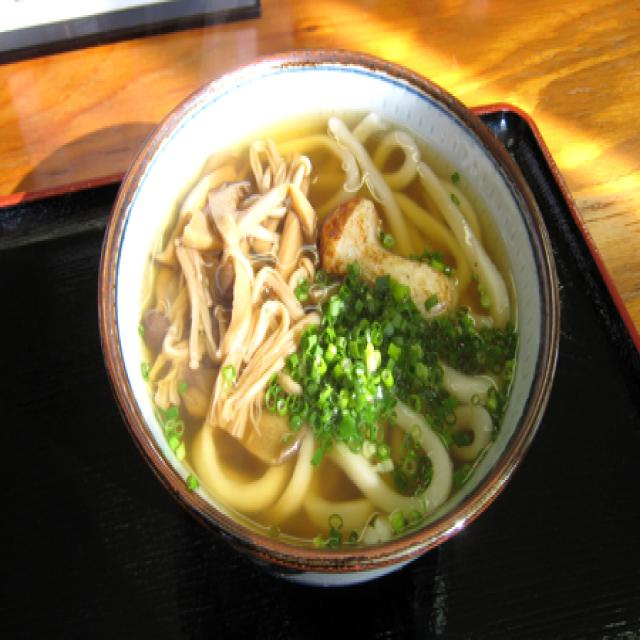面条主食: (101, 98, 532, 640)
